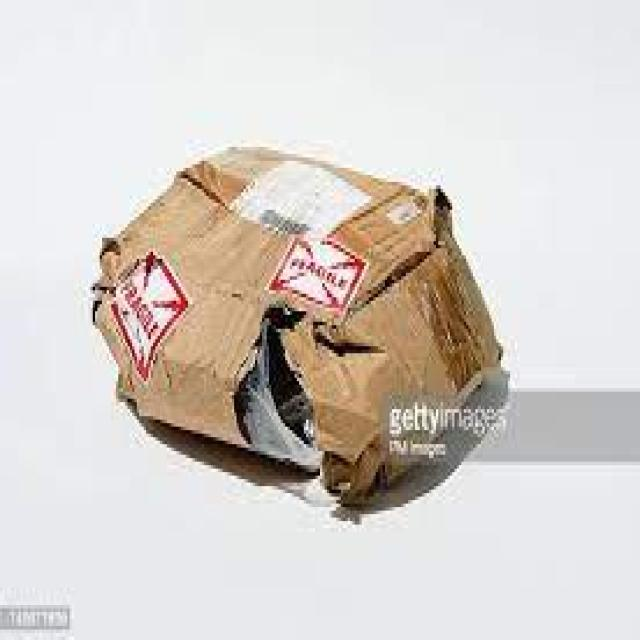box: (93, 142, 504, 502)
crushed: (116, 219, 229, 374), (353, 185, 467, 269)
opened: (229, 291, 345, 475)
